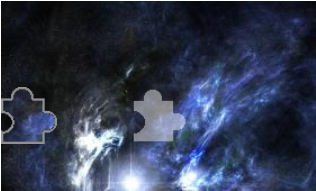target: (127, 87, 187, 146)
